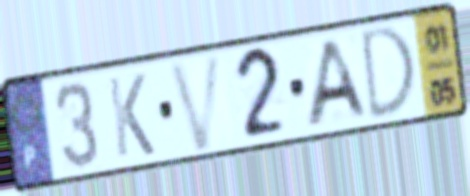2: (230, 43, 295, 148)
3: (53, 77, 102, 173)
A: (303, 35, 372, 132)
D: (359, 22, 419, 126)
K: (105, 70, 158, 161)
V: (165, 50, 226, 156)
